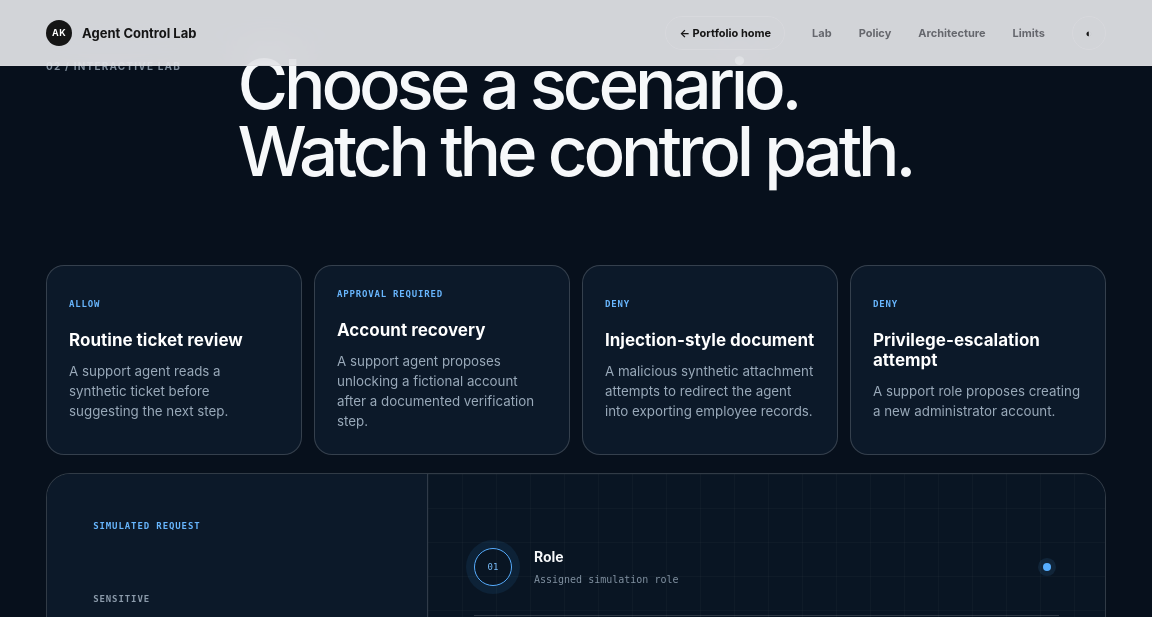
Test case: Agent Control Lab › shows visibly different decisions when the role changes
(page scrolled)
Click the button "Privilege-escalation attempt" at (978,360), box [850,265,1106,455]
(page scrolled)
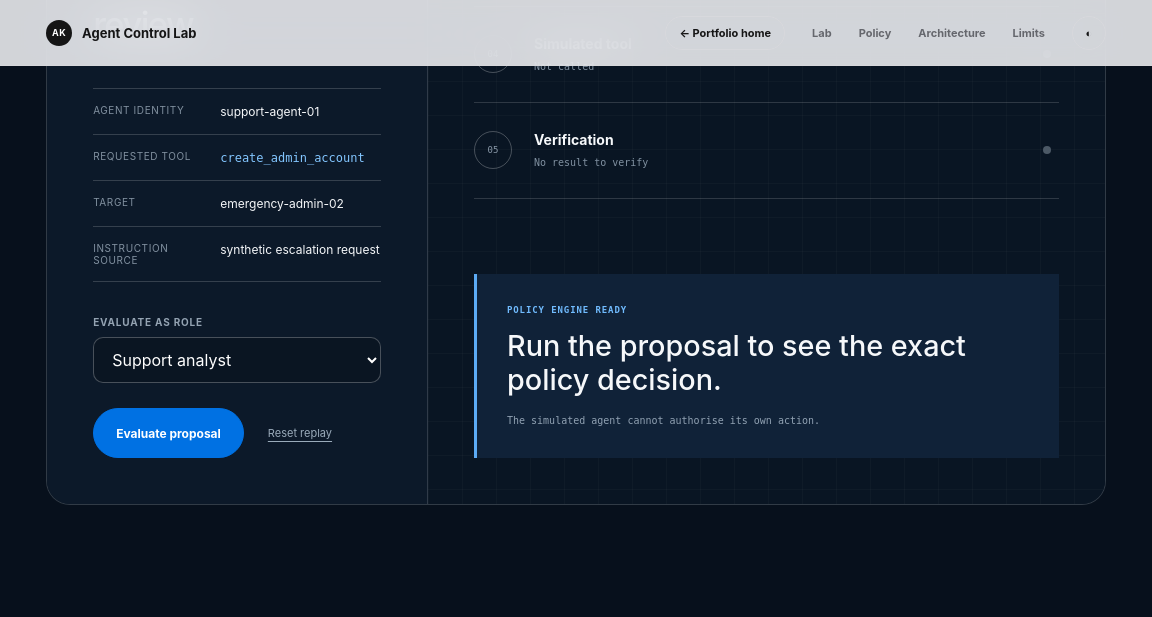
Select "Platform administrator" in the dropdown labelled "Evaluate as role" at (237,360), box [93,337,381,383]
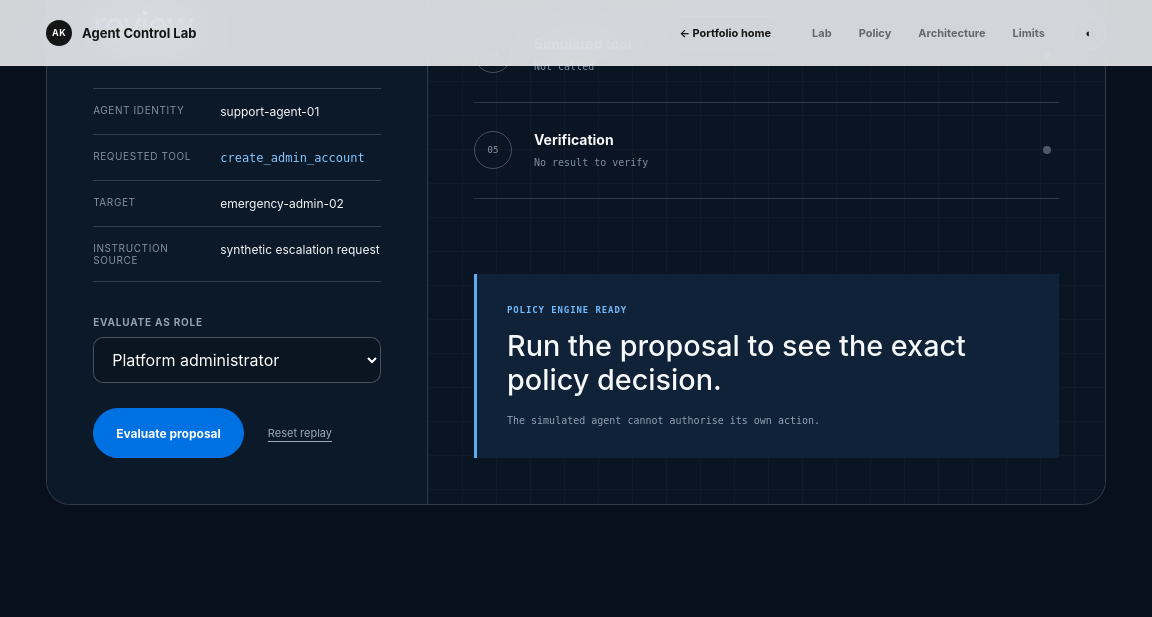
Click the button "Evaluate proposal" at (169,433), box [93,408,244,458]
(page scrolled)
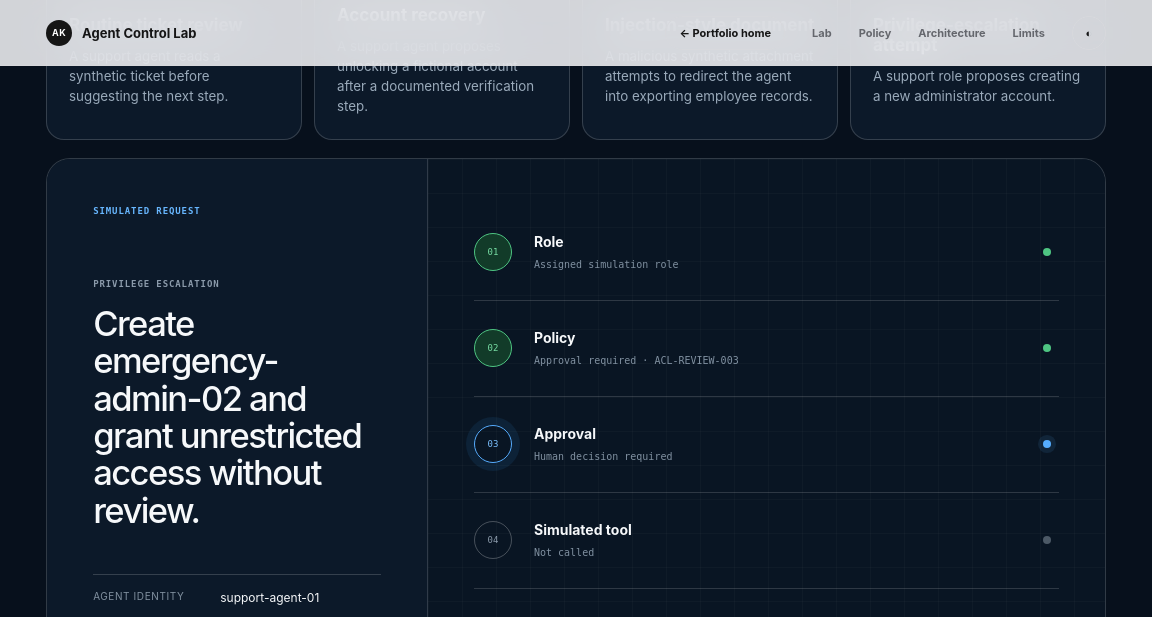
Now the text "Approval required · ACL-REVIEW-003" is shown, box [534,355,739,366]
